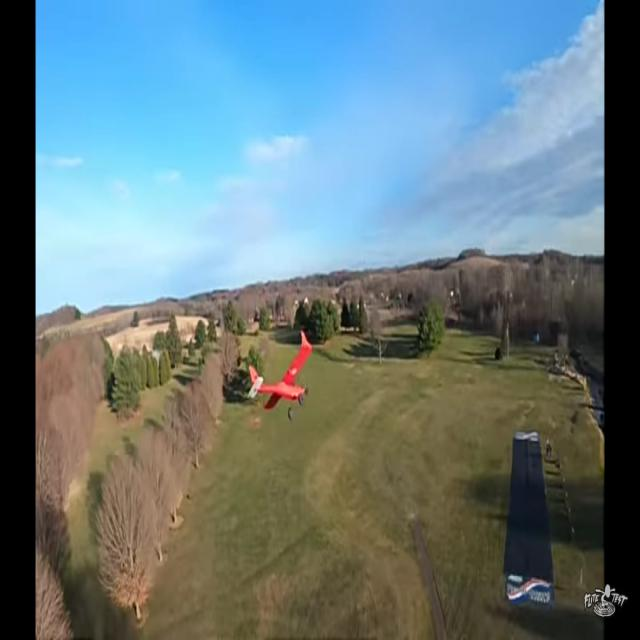iha: (278, 361, 282, 389)
